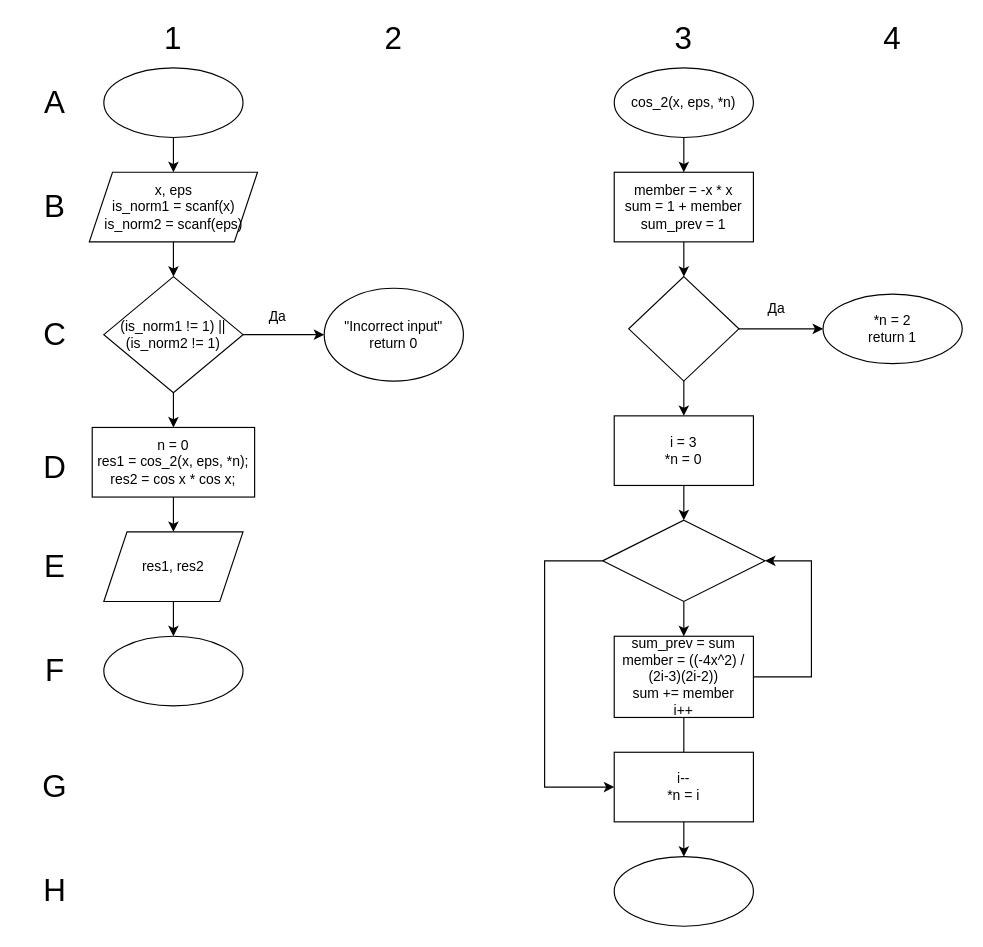
The diagram is 983 pixels wide and 947 high, and some of its shapes have lost their labels. Each missing label, with the centre of its shape:
abs(abs(sum) - abs(sum_prev)) < eps: point (683, 328)
abs(abs(sum) -abs(sum_prev)) > eps: point (683, 560)
return 0: point (173, 670)
return sum: point (683, 890)
Start: point (173, 102)
